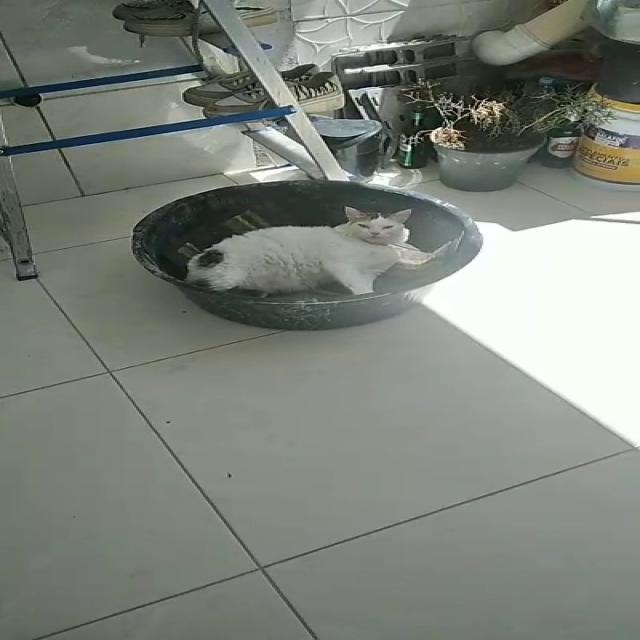Simba: (180, 199, 493, 286)
